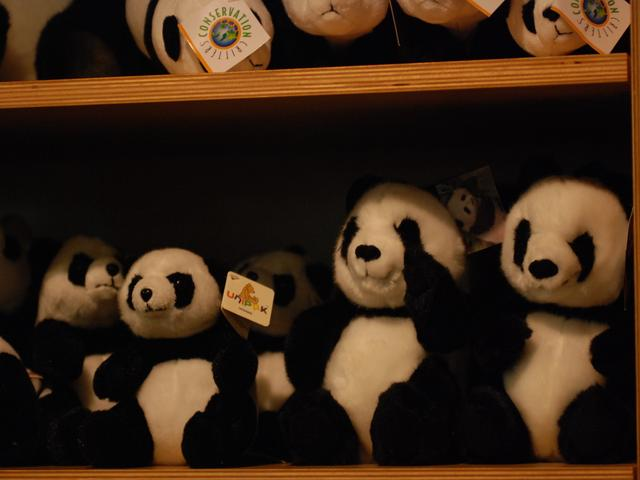panda: (281, 157, 481, 480), (88, 221, 254, 480)
